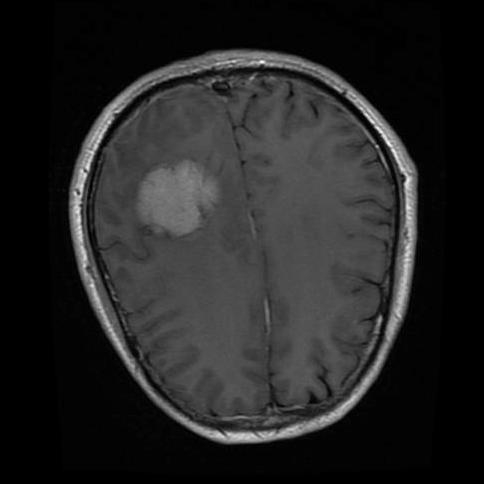Tumour-Meningioma: (88, 144, 253, 248)
